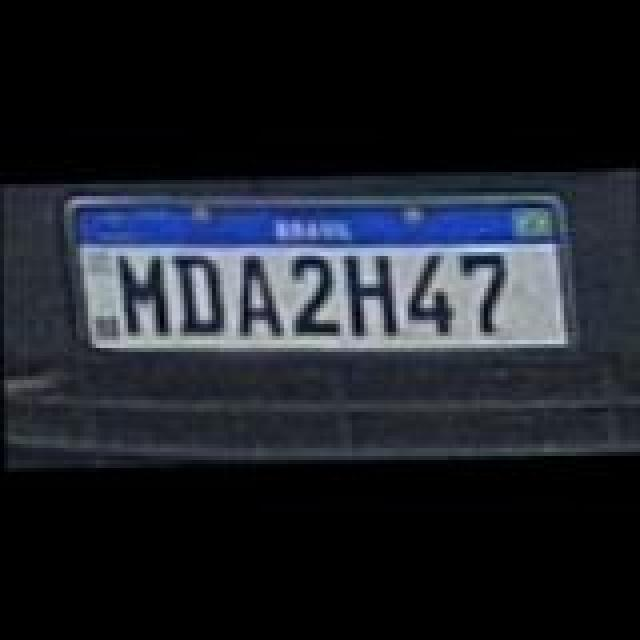2: (292, 254, 344, 334)
4: (402, 250, 458, 334)
7: (458, 250, 514, 334)
A: (230, 254, 286, 338)
D: (174, 246, 230, 330)
H: (346, 252, 402, 336)
M: (114, 254, 178, 338)
